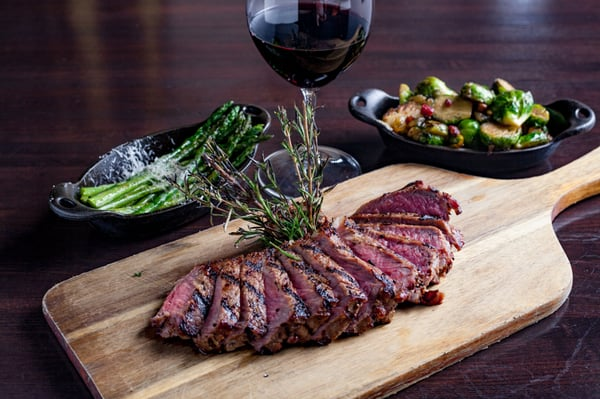sushi: (349, 76, 598, 181)
